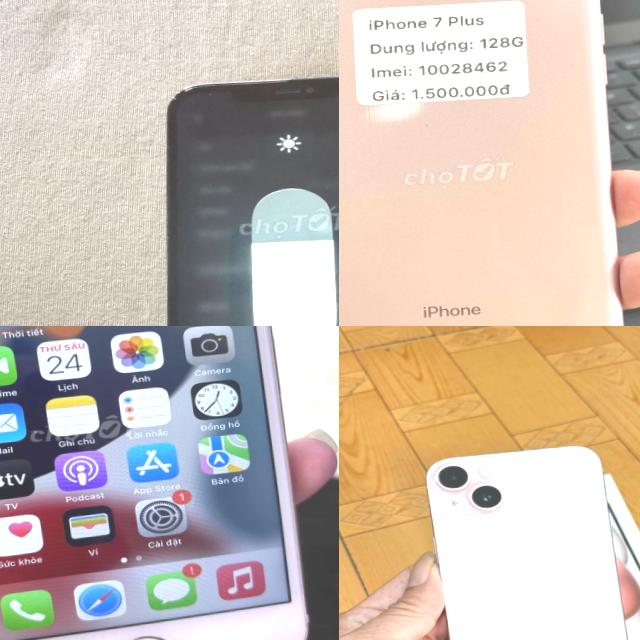scratch: (420, 110, 440, 134)
